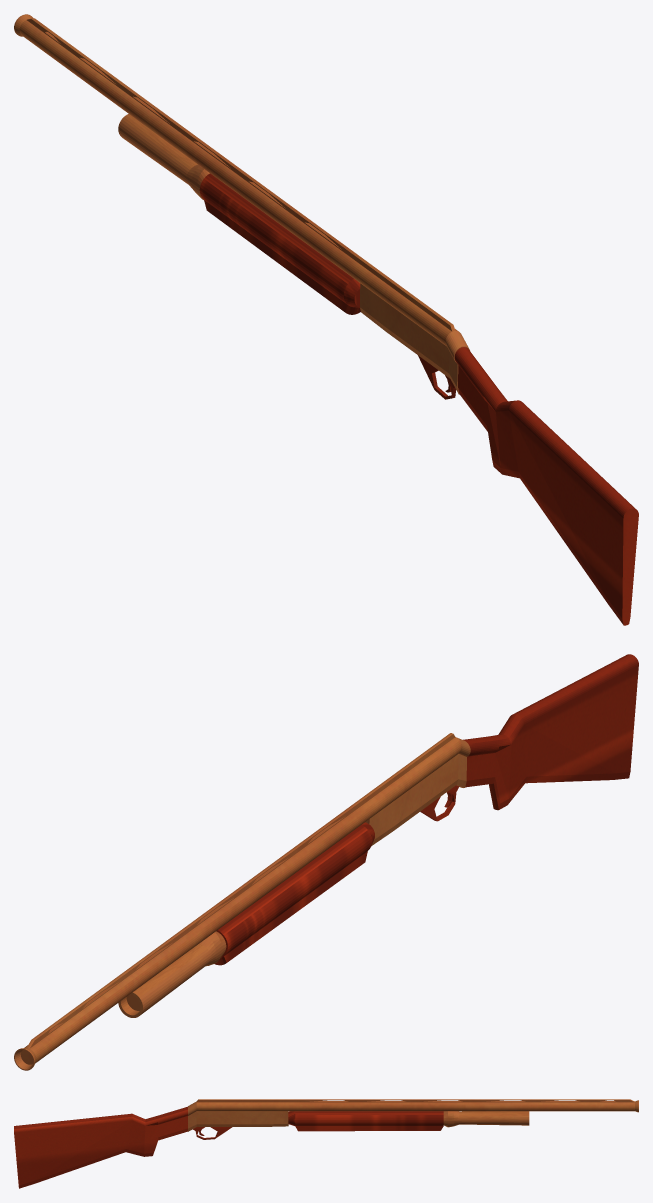
Rendered from shotgun.fbx.
The picture shows the model from 3 angles, top to bottom: view 1: azimuth 30°, elevation 25°; view 2: azimuth 150°, elevation 25°; view 3: azimuth 270°, elevation 25°; orthographic projection. The views are drawn at different scales.
Parts seen in each view (by area): view 1: Cylinder.003, Cylinder, Cylinder.001, Cylinder.004; view 2: Cylinder.003, Cylinder, Cylinder.001, Cylinder.004; view 3: Cylinder.003, Cylinder, Cylinder.001, Cylinder.004, Cylinder.002.
Part boxes in pixels (<box>): Cylinder.003: <box>418,347,638,625</box>; Cylinder: <box>14,14,458,378</box>; Cylinder.001: <box>199,173,360,314</box>; Cylinder.004: <box>118,114,209,199</box>; Cylinder.003: <box>420,654,638,821</box>; Cylinder: <box>14,733,462,1070</box>; Cylinder.001: <box>214,822,374,965</box>; Cylinder.004: <box>118,931,226,1017</box>; Cylinder.003: <box>14,1106,232,1188</box>; Cylinder: <box>196,1099,638,1126</box>; Cylinder.001: <box>288,1111,443,1131</box>; Cylinder.004: <box>443,1111,529,1127</box>; Cylinder.002: <box>188,1101,196,1131</box>.
Size of the model in its own units: 12.88 by 75.01 by 478.
